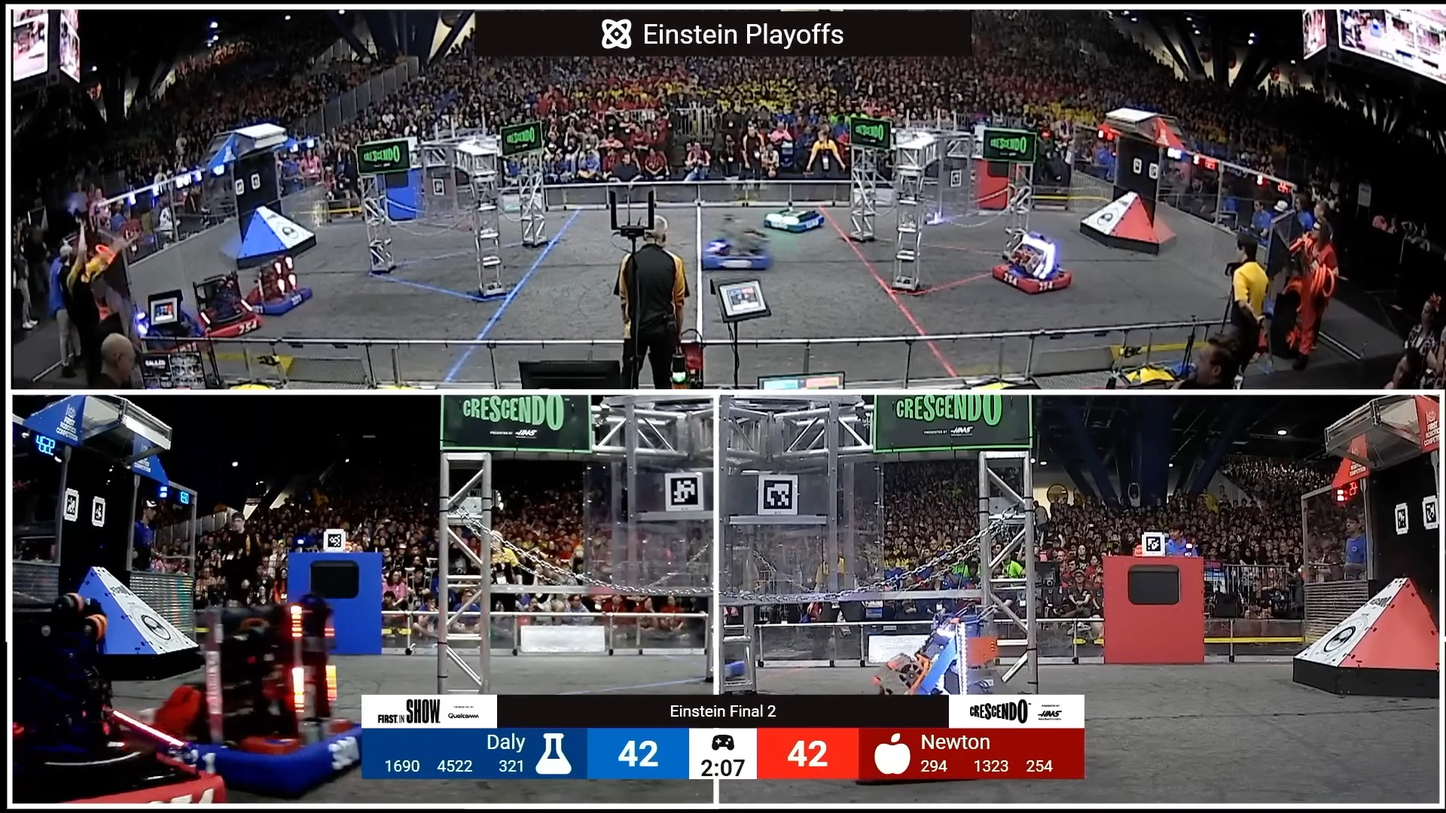bumpers: (145, 727, 374, 803), (989, 258, 1080, 297), (186, 303, 273, 340), (231, 284, 318, 320), (697, 241, 775, 277), (759, 215, 831, 238)
